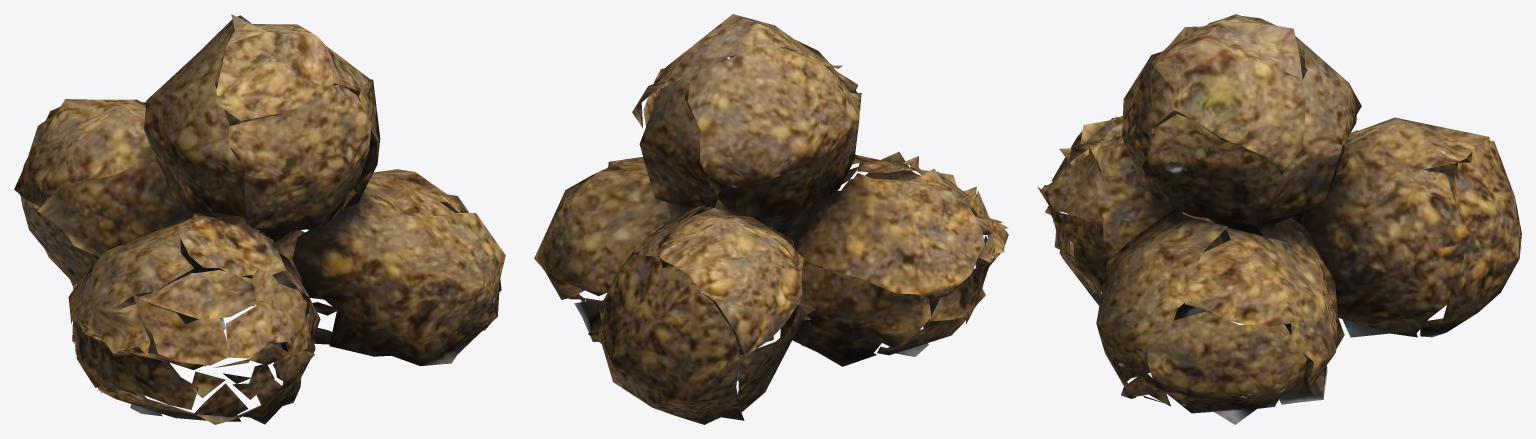
File: falafel-balls.glb
3 renders of one model, left to right at view 1: azimuth 30°, elevation 25°; view 2: azimuth 150°, elevation 25°; view 3: azimuth 270°, elevation 25°, orthographic. The views are drawn at different scales.
Visible parts, largest first — view 1: falafel_balls; view 2: falafel_balls; view 3: falafel_balls.
Part boxes in pixels (left/top/right/bottom): falafel_balls: left=14, top=14, right=505, bottom=424; falafel_balls: left=534, top=14, right=1008, bottom=424; falafel_balls: left=1037, top=14, right=1521, bottom=424.
Size of the model in its own units: 0.0977 by 0.072 by 0.099.
1 material, 1 textured.
